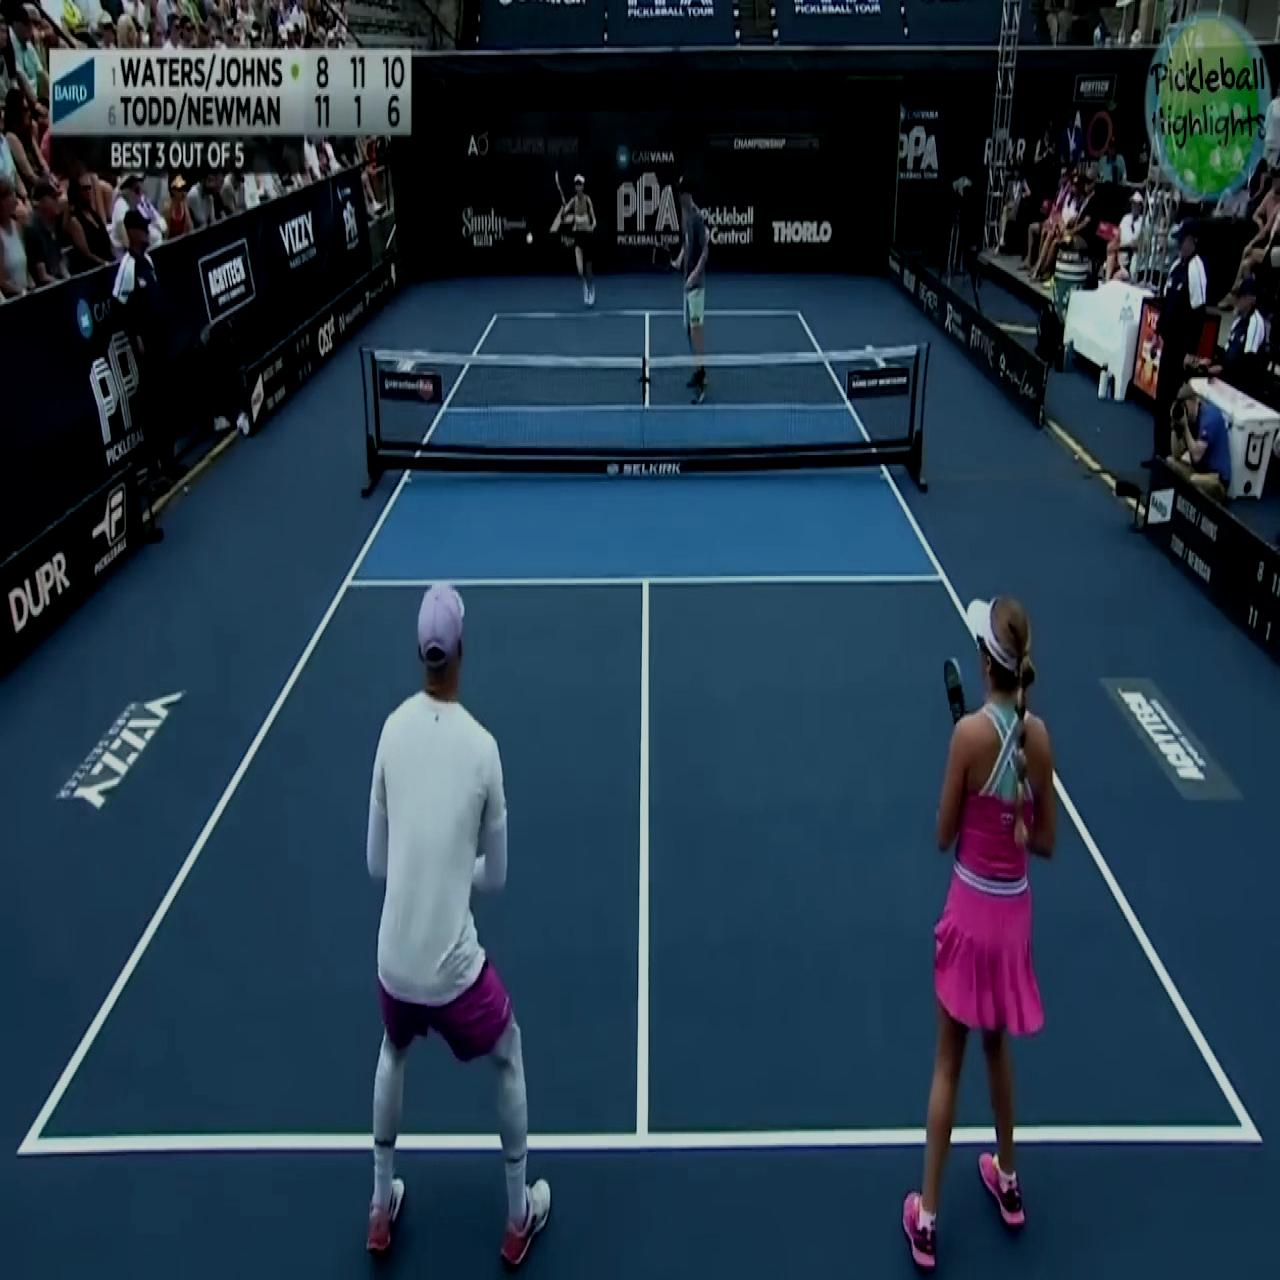Pickleball: (523, 229, 538, 250)
